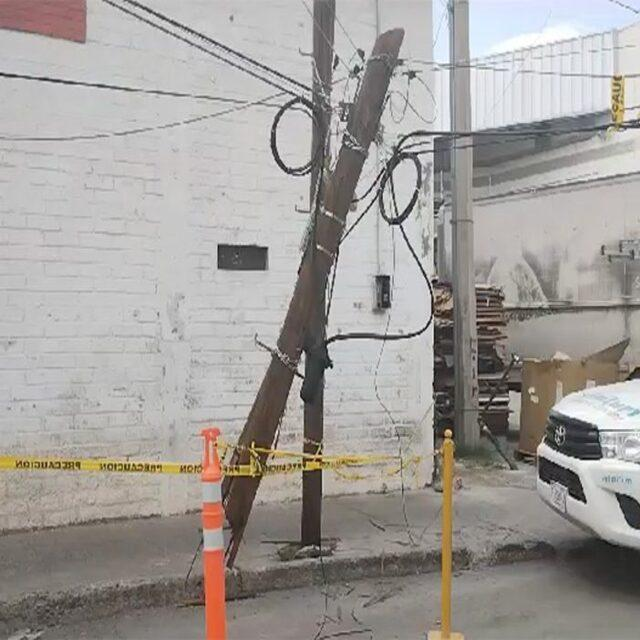Inclined Pole: (213, 25, 409, 562)
